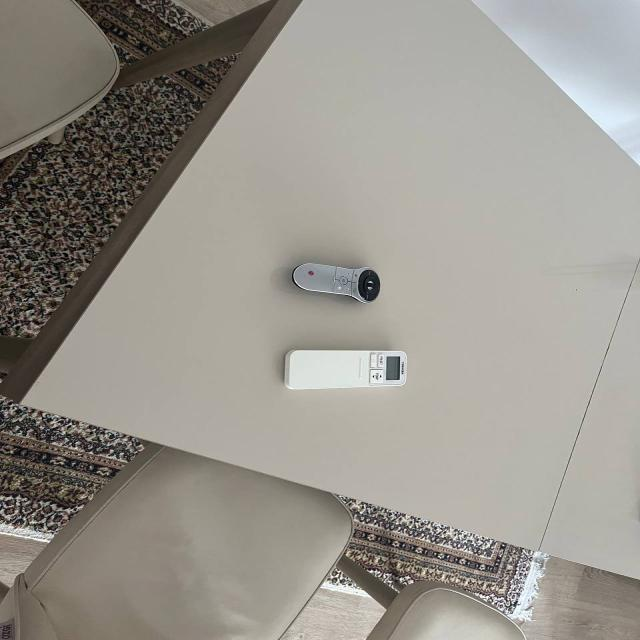remote: (268, 340, 422, 400), (283, 246, 397, 306)
